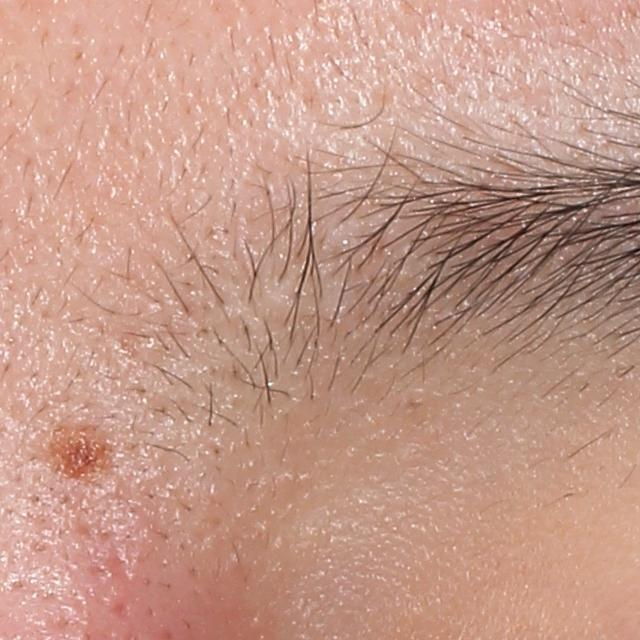nevus: (54, 424, 116, 486)
